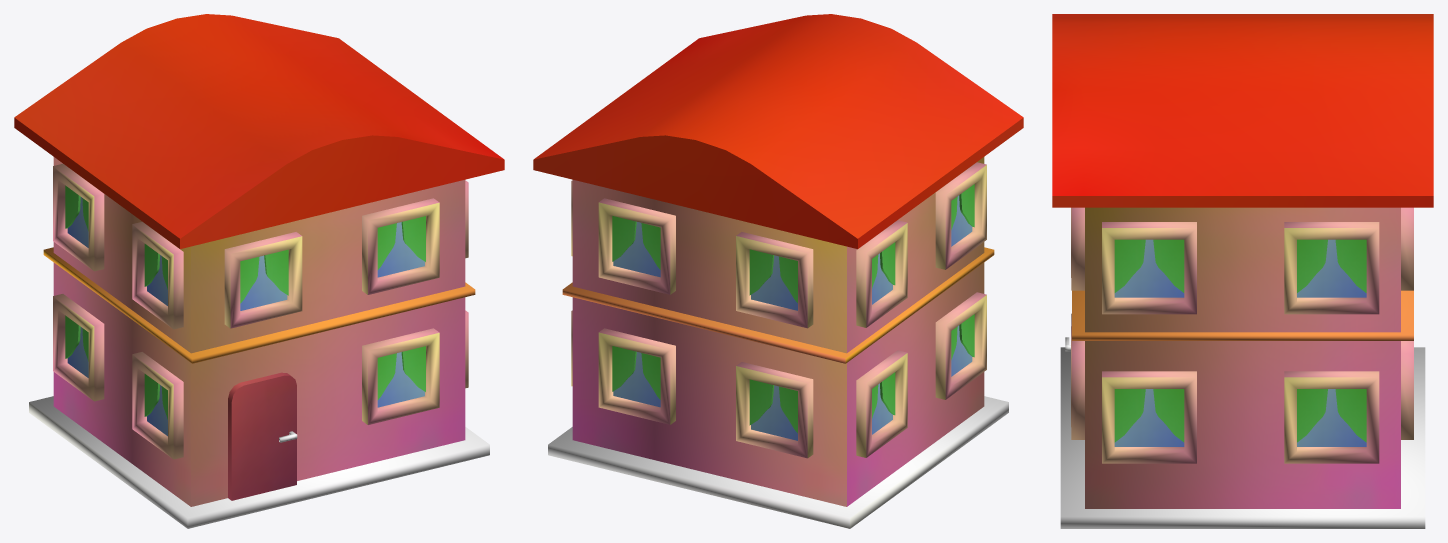
Rendered from House2.fbx.
3 views of the same model, side by side, from view 1: azimuth 30°, elevation 25°; view 2: azimuth 150°, elevation 25°; view 3: azimuth 270°, elevation 25° (orthographic). The views are drawn at different scales.
Visible parts, largest first — view 1: House.2; view 2: House.2; view 3: House.2.
Part boxes in pixels (x1=…): House.2: x1=14, y1=14, x2=504, y2=528; House.2: x1=533, y1=14, x2=1023, y2=528; House.2: x1=1052, y1=14, x2=1433, y2=528.
Bounding box in the file's own units: 813 × 849 × 720.
1 material, 1 textured.
